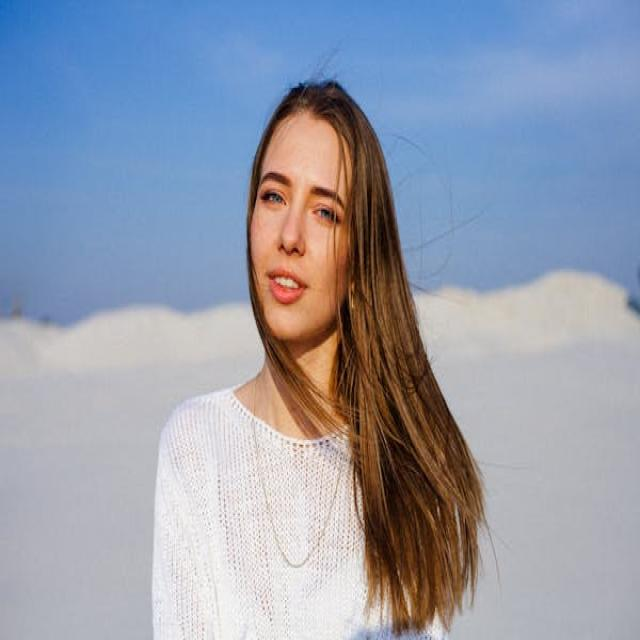no_mask: (232, 92, 414, 389)
